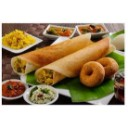dosa: (11, 32, 110, 80)
